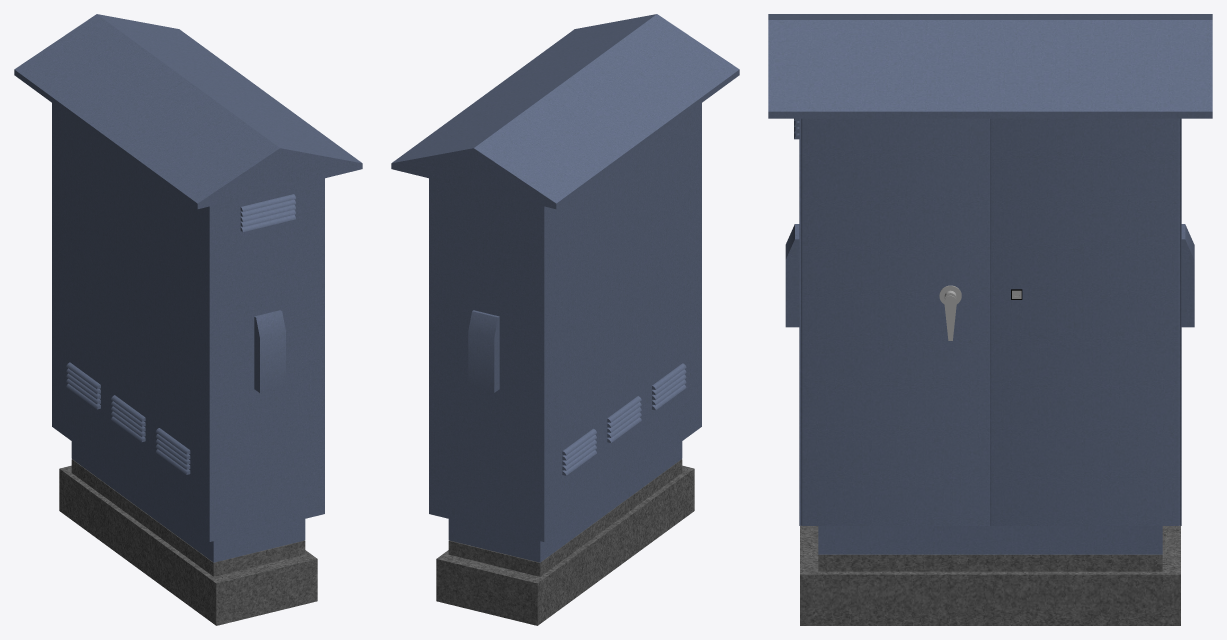
File: electric box.fbx
The picture shows the model from 3 angles, left to right: view 1: azimuth 30°, elevation 25°; view 2: azimuth 150°, elevation 25°; view 3: azimuth 270°, elevation 25°; orthographic projection. The views are drawn at different scales.
Parts seen in each view (by area): view 1: Cube; view 2: Cube; view 3: Cube.
Boxes of the visible parts, <box> form: Cube: <box>14,14,362,625</box>; Cube: <box>391,14,739,625</box>; Cube: <box>768,14,1212,625</box>.
Bounding box in the file's own units: 1092 × 3004 × 2101.
4 materials, 2 textured.
